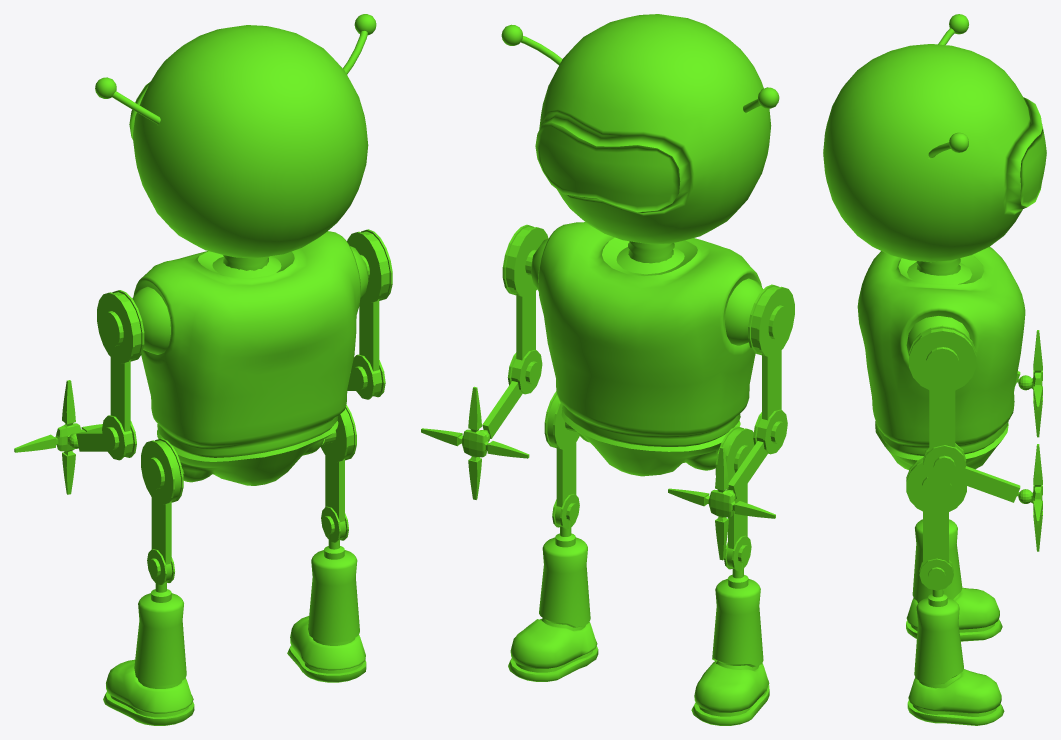
File: Green.fbx
3 renders of one model, left to right at view 1: azimuth 30°, elevation 25°; view 2: azimuth 150°, elevation 25°; view 3: azimuth 270°, elevation 25°, orthographic. The views are drawn at different scales.
Visible parts, largest first — view 1: Head002; view 2: Head002; view 3: Head002.
Part boxes in pixels (x1=…): Head002: x1=14, y1=14, x2=392, y2=725; Head002: x1=421, y1=14, x2=794, y2=725; Head002: x1=823, y1=14, x2=1046, y2=725.
Bounding box in the file's own units: 89.48 × 51.66 × 157.
